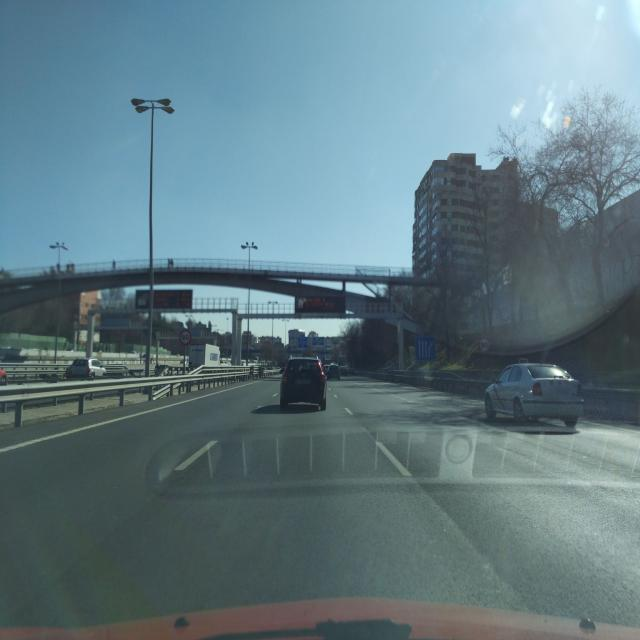car: (484, 362, 584, 428), (278, 355, 328, 412), (66, 357, 108, 380), (325, 363, 341, 381), (0, 362, 8, 388)
